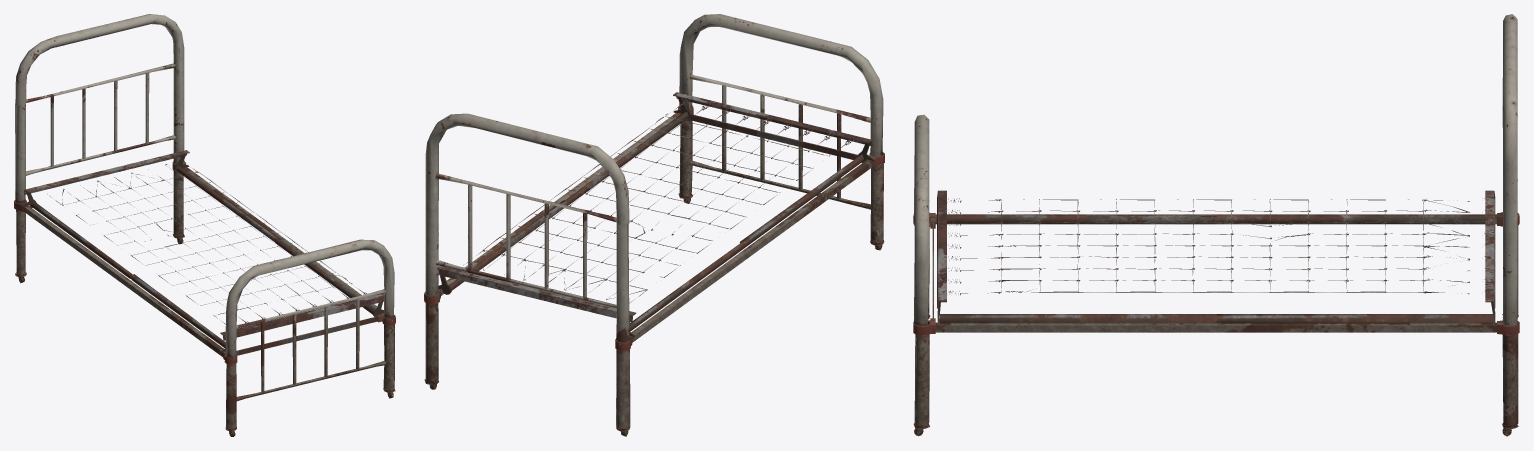
Rendered from old_bed_frame.glb.
3 views of the same model, side by side, from view 1: azimuth 30°, elevation 25°; view 2: azimuth 150°, elevation 25°; view 3: azimuth 270°, elevation 25° (orthographic). The views are drawn at different scales.
Parts seen in each view (by area): view 1: old_bed_frame; view 2: old_bed_frame; view 3: old_bed_frame.
Boxes of the visible parts, x1,y1,x2,y2 form: old_bed_frame: [14, 14, 395, 436]; old_bed_frame: [424, 14, 884, 436]; old_bed_frame: [913, 14, 1519, 436].
Size of the model in its own units: 0.9047 by 1.2 by 2.
1 material, 1 textured.
